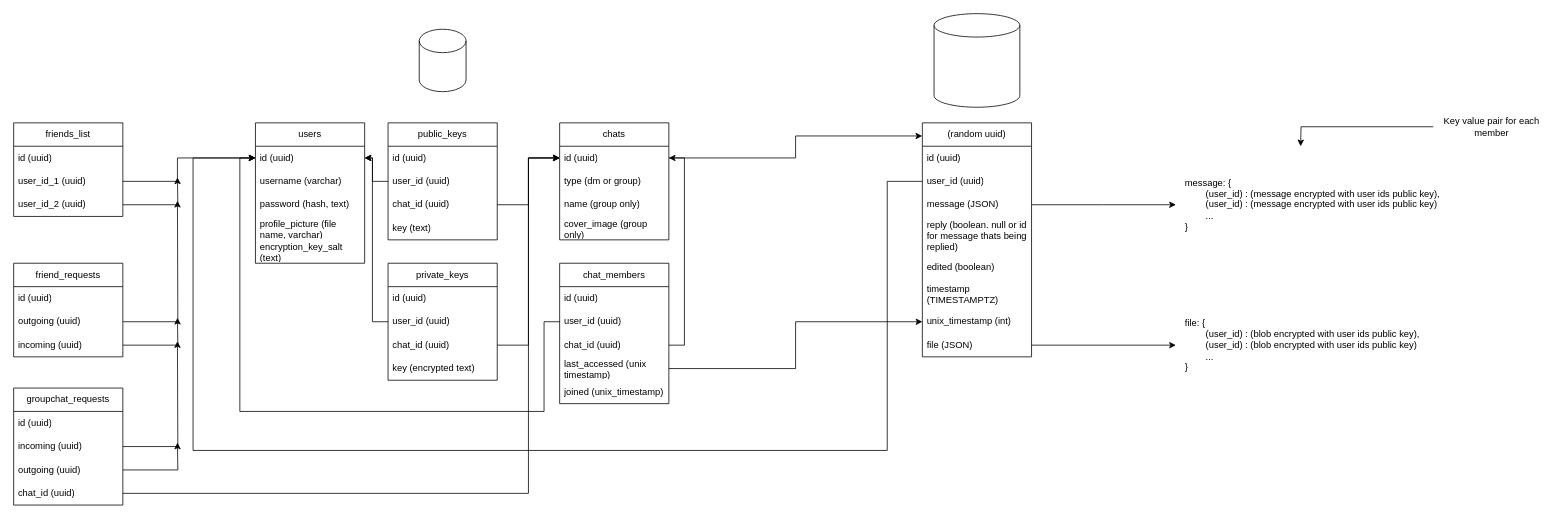
This 1564x519 diagram has some shape labels left out. Here are the shapes that lost their labels. From the top down, the centre of each, then its label:
(442,60): invis
(976,60): invis_messages
